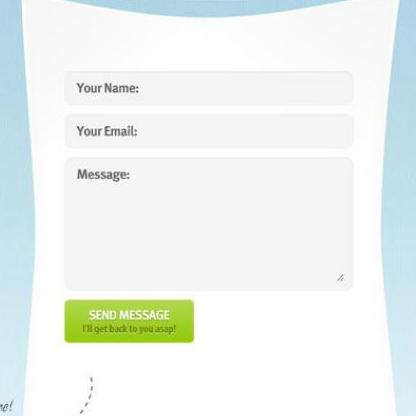button: (63, 299, 193, 343)
field: (65, 157, 356, 291), (63, 113, 355, 149), (63, 70, 353, 106)
